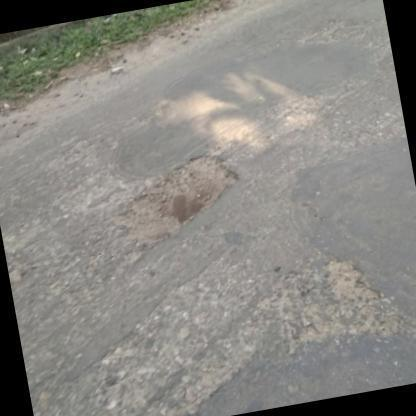pothole: (116, 151, 242, 250), (276, 262, 410, 351)
